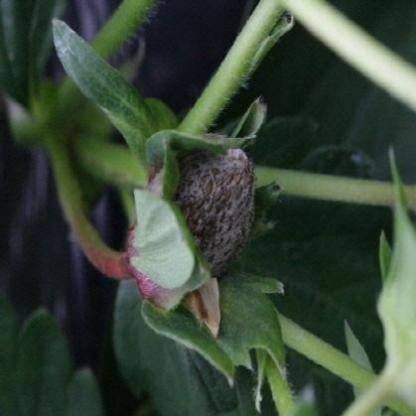Strawberry_Gray_Mold: (124, 133, 254, 313)
